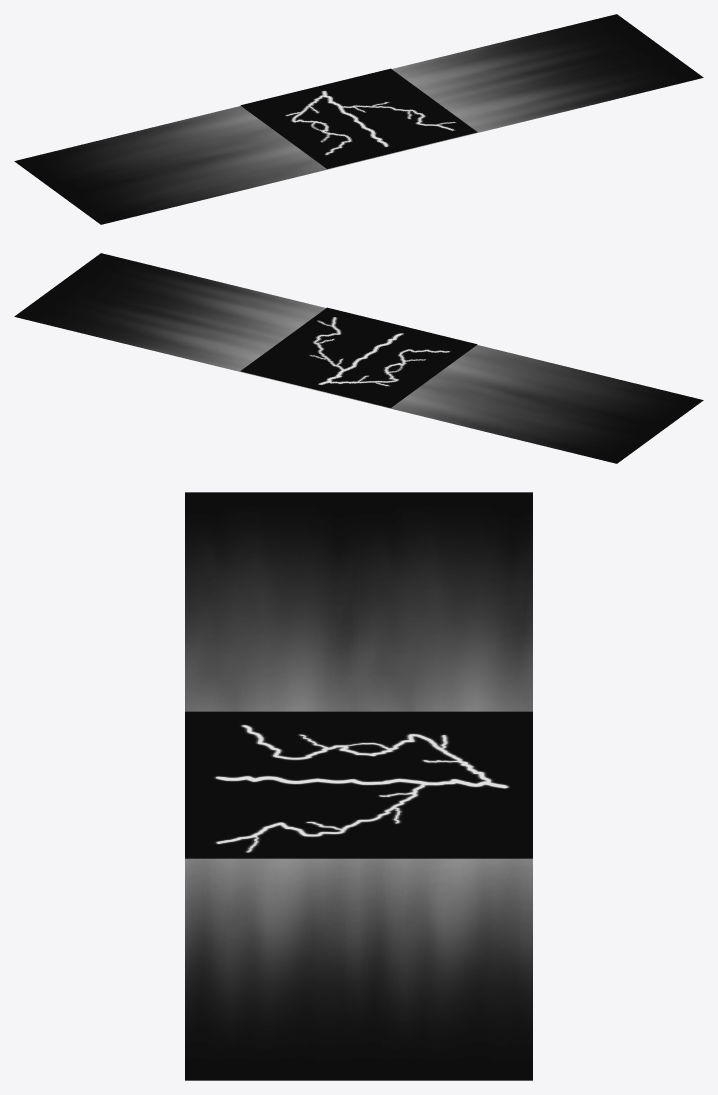
File: lightning1.glb
3 renders of one model, top to bottom at view 1: azimuth 30°, elevation 25°; view 2: azimuth 150°, elevation 25°; view 3: azimuth 270°, elevation 25°, orthographic. The views are drawn at different scales.
Parts seen in each view (by area): view 1: gfx_lightningGlow_a.jpg__, gfx_lightning_a.jpg__; view 2: gfx_lightningGlow_a.jpg__, gfx_lightning_a.jpg__; view 3: gfx_lightningGlow_a.jpg__, gfx_lightning_a.jpg__.
Boxes of the visible parts, x1,y1,x2,y2 form: gfx_lightningGlow_a.jpg__: (14, 14, 703, 224); gfx_lightning_a.jpg__: (240, 68, 477, 168); gfx_lightningGlow_a.jpg__: (14, 253, 703, 463); gfx_lightning_a.jpg__: (240, 307, 477, 407); gfx_lightningGlow_a.jpg__: (185, 492, 532, 1080); gfx_lightning_a.jpg__: (185, 711, 532, 858).
Bounding box in the file's own units: 8 × 0.00826 × 2.
Materials: 2 (2 with a texture image).
